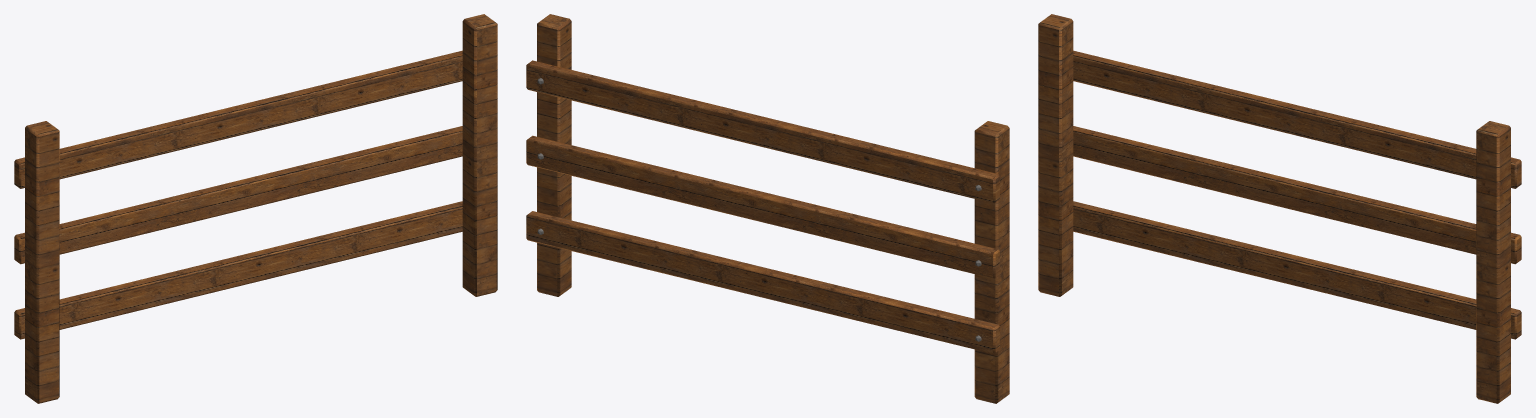
The model's file is fence-segment-v01.glb.
The picture shows the model from 3 angles, left to right: view 1: azimuth 30°, elevation 25°; view 2: azimuth 150°, elevation 25°; view 3: azimuth 330°, elevation 25°; orthographic projection.
Visible parts, largest first — view 1: fence-segment; view 2: fence-segment; view 3: fence-segment.
Boxes of the visible parts, left/top/right/bottom form: fence-segment: left=14, top=14, right=497, bottom=403; fence-segment: left=526, top=14, right=1009, bottom=403; fence-segment: left=1038, top=14, right=1521, bottom=403.
Size of the model in its own units: 3 by 1.65 by 0.242.
Materials: 2 (1 with a texture image).
